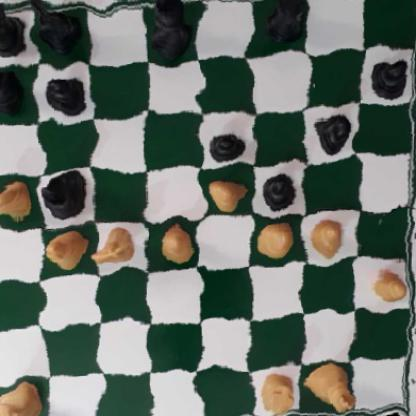black-bishop: (46, 167, 89, 220)
black-king: (149, 0, 196, 59)
black-knight: (29, 0, 81, 53)
black-pawn: (43, 67, 88, 117), (370, 52, 410, 98), (207, 123, 249, 163), (311, 108, 350, 150), (260, 169, 303, 207), (0, 66, 28, 114)
black-rook: (260, 0, 305, 50), (0, 0, 32, 61)
white-bishop: (42, 229, 89, 272)
white-king: (304, 359, 354, 414)
white-knight: (95, 228, 136, 269)
white-pawn: (362, 260, 410, 304), (307, 215, 349, 258), (201, 174, 246, 212), (255, 218, 297, 256), (0, 180, 35, 220), (158, 228, 195, 262)
white-rook: (257, 375, 295, 416), (0, 383, 46, 416)
